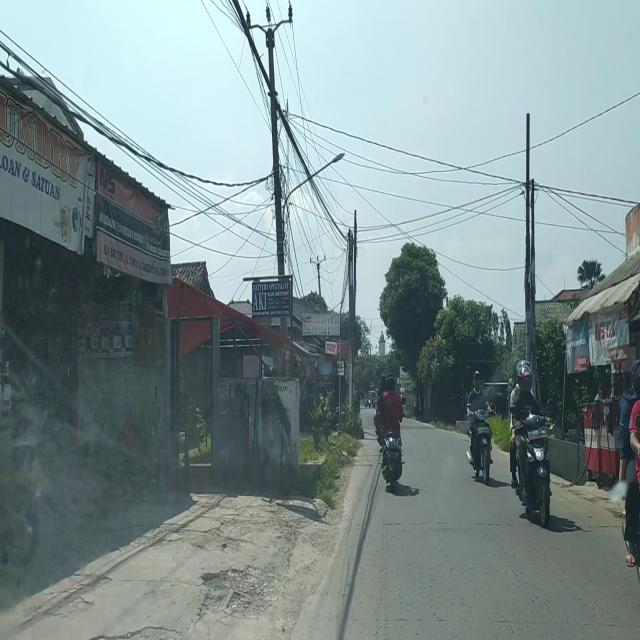Sewer Cover: (384, 516, 614, 532)
